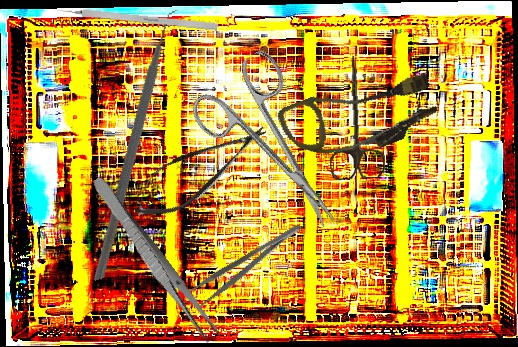Cannula: (275, 55, 445, 179)
Chopper: (25, 5, 262, 281)
Dressing Forceps: (86, 174, 222, 345), (184, 220, 310, 311)
Hook Surgical: (50, 5, 218, 31)
Iris Scissors: (183, 46, 367, 253), (322, 54, 387, 181)
Micro Scissor: (121, 109, 278, 231)
